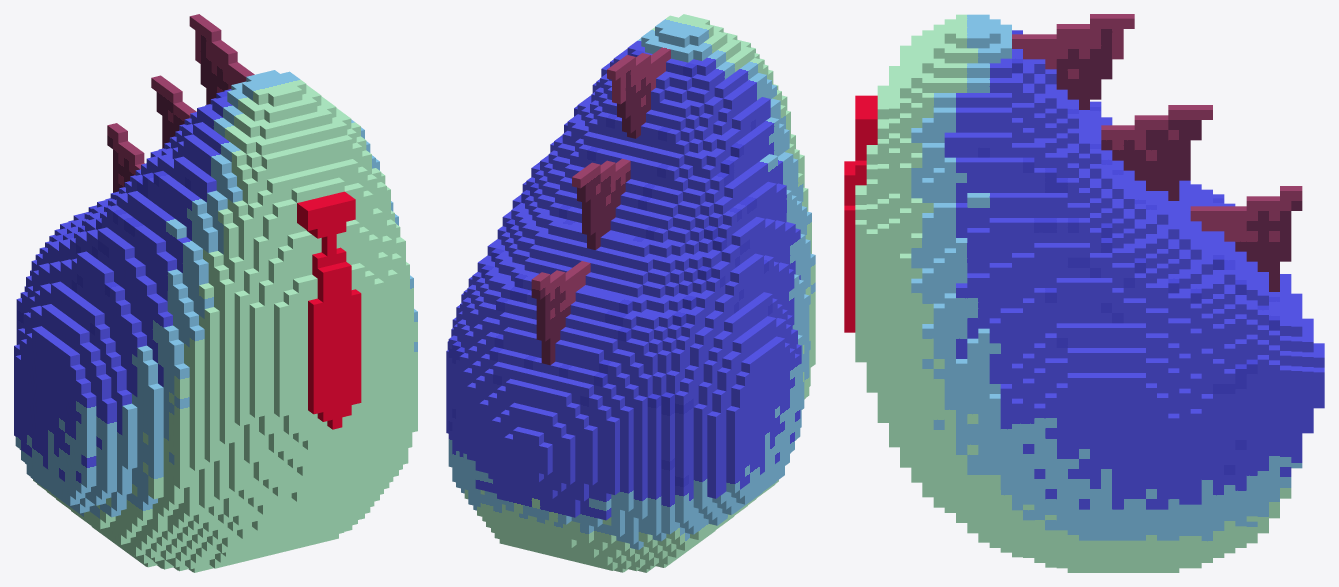
The model's file is red tie.gltf.
3 renders of one model, left to right at view 1: azimuth 30°, elevation 25°; view 2: azimuth 150°, elevation 25°; view 3: azimuth 270°, elevation 25°, orthographic. The views are drawn at different scales.
Parts seen in each view (by area): view 1: 04_Body_RedTie-Mesh; view 2: 04_Body_RedTie-Mesh; view 3: 04_Body_RedTie-Mesh.
Part boxes in pixels (box(x1,y1,x2,y2)): 04_Body_RedTie-Mesh: box(14, 14, 417, 572); 04_Body_RedTie-Mesh: box(446, 14, 815, 572); 04_Body_RedTie-Mesh: box(844, 14, 1324, 572).
Size of the model in its own units: 33 by 51 by 43.
1 material, 1 textured.
